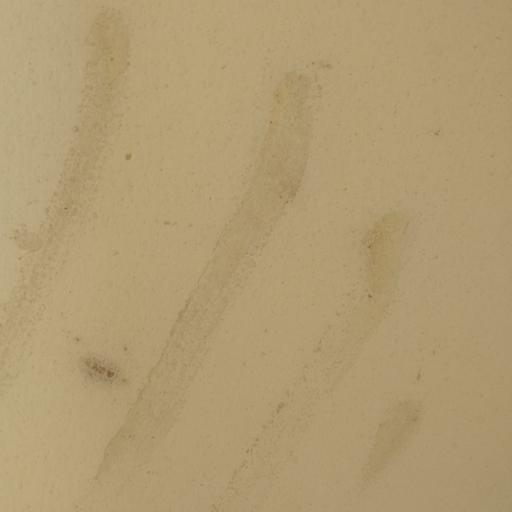stain: (134, 48, 438, 512), (32, 0, 131, 347), (61, 322, 129, 415)
